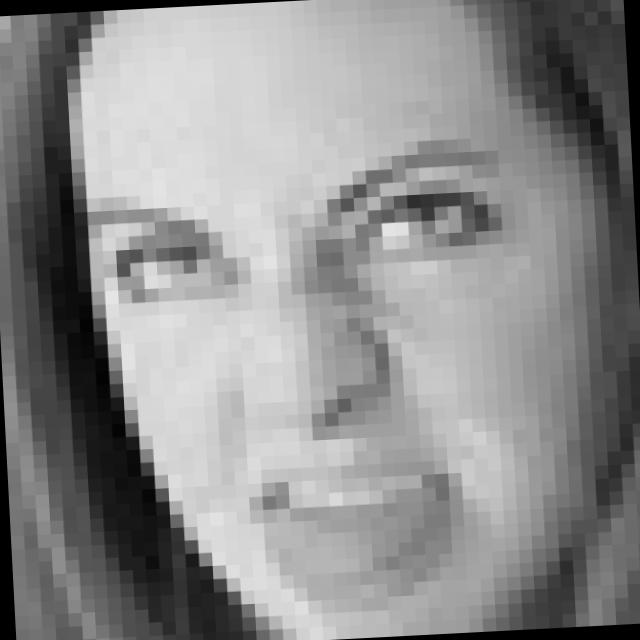disgust: (83, 140, 526, 634)
